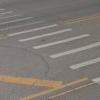Crosswalk: (10, 7, 95, 83)
